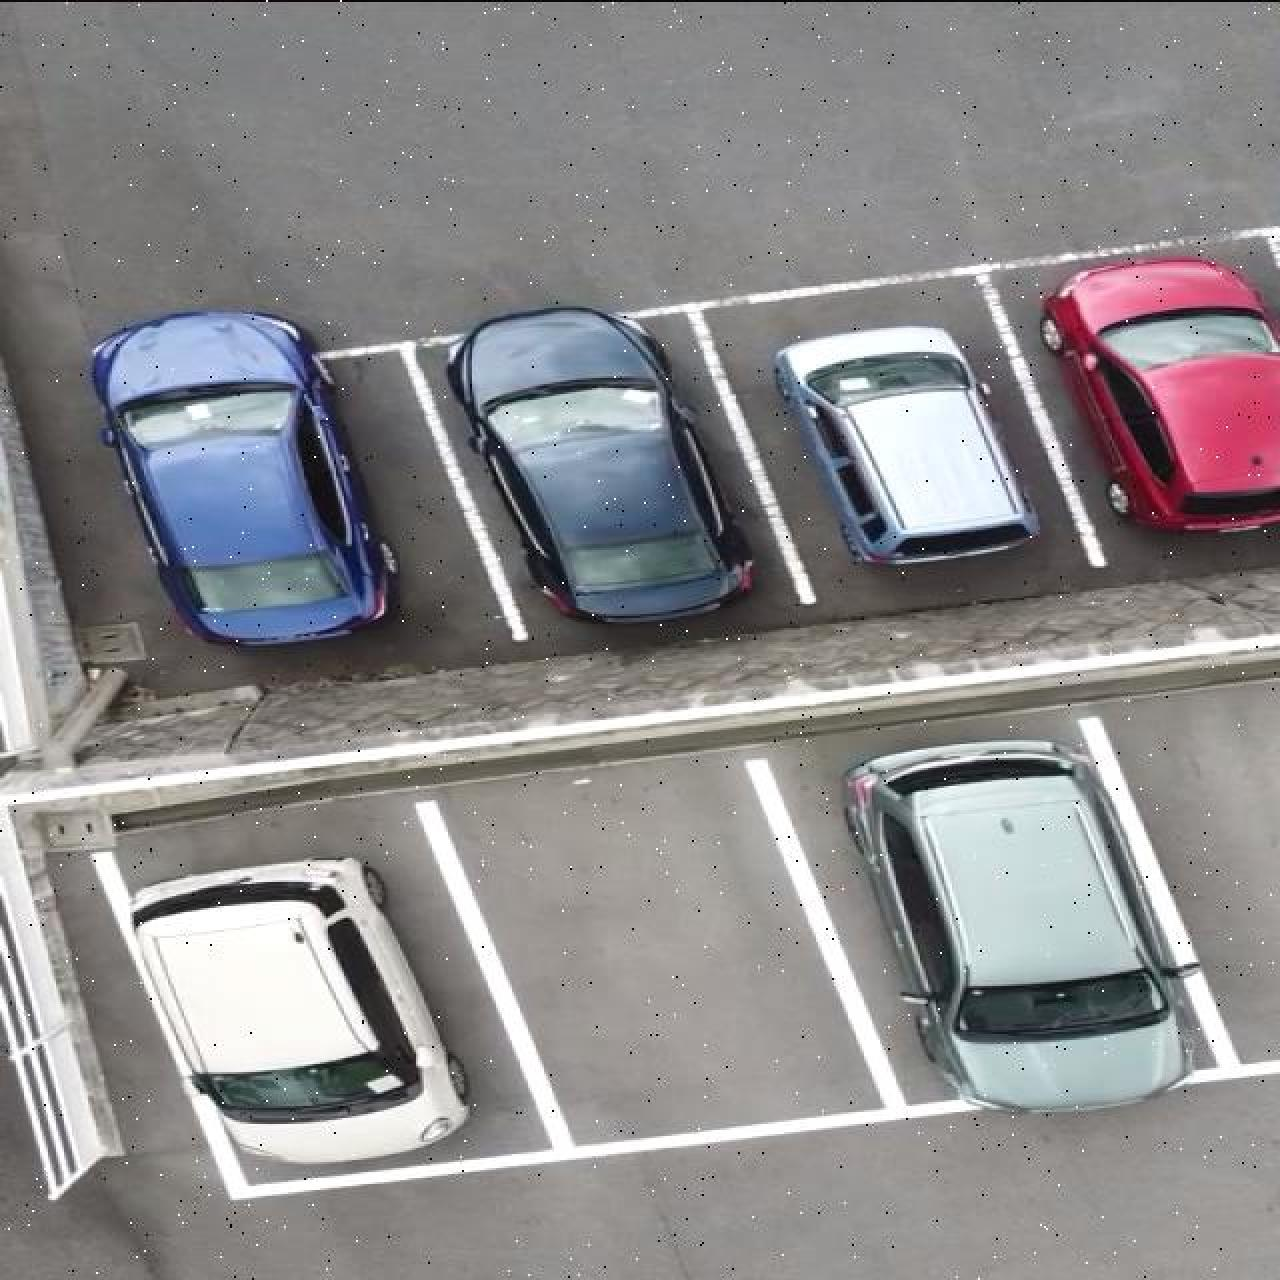car: (840, 736, 1200, 1114), (125, 855, 472, 1166), (88, 306, 400, 648), (444, 302, 756, 624), (1039, 252, 1278, 535), (772, 322, 1040, 568)
